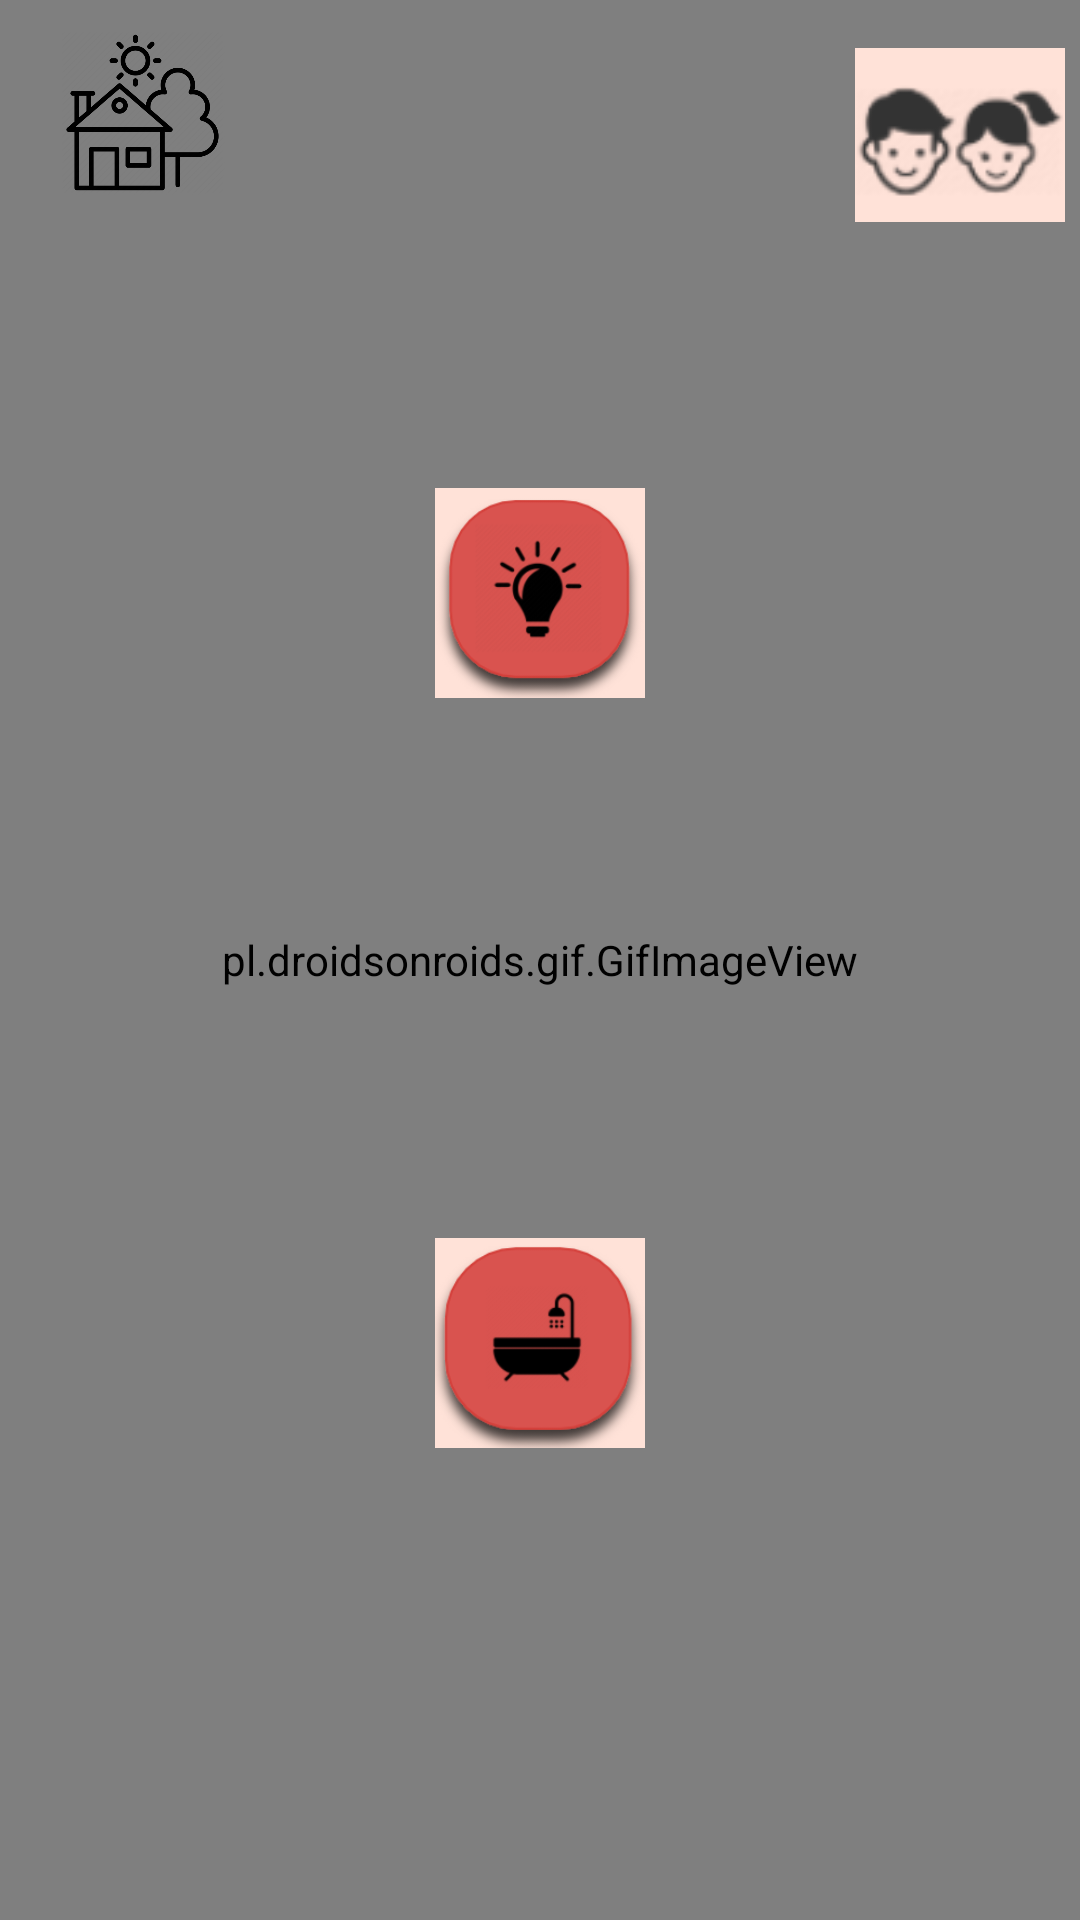

Icon click points for this 1080×1920 phone screenshot, format (x=x, y=y):
bathtub: (x=540, y=1343)
bulb: (x=540, y=593)
house: (x=142, y=112)
kids: (x=960, y=135)
